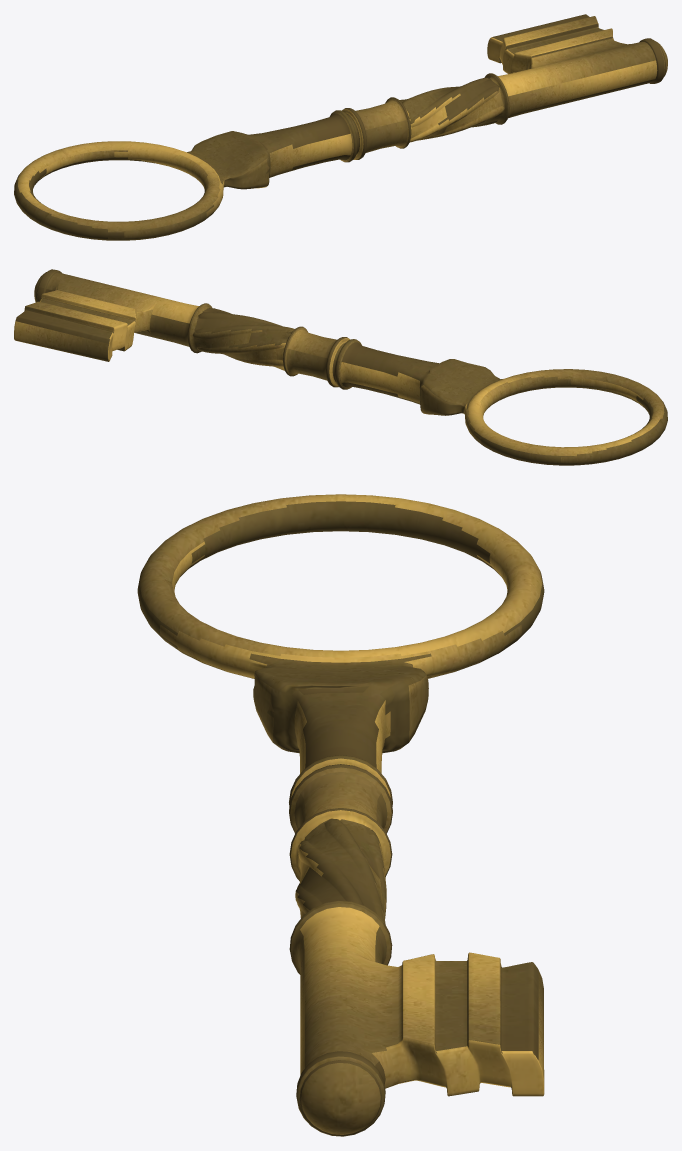
Rendered from Key.fbx.
The picture shows the model from 3 angles, top to bottom: view 1: azimuth 30°, elevation 25°; view 2: azimuth 150°, elevation 25°; view 3: azimuth 270°, elevation 25°; orthographic projection. The views are drawn at different scales.
Parts seen in each view (by area): view 1: Key; view 2: Key; view 3: Key.
Part boxes in pixels (box(x1,y1,x2,y2)): Key: box(14, 14, 667, 240); Key: box(14, 269, 667, 465); Key: box(137, 494, 544, 1136).
Size of the model in its own units: 25.19 by 1.84 by 7.2.
1 material, 1 textured.
